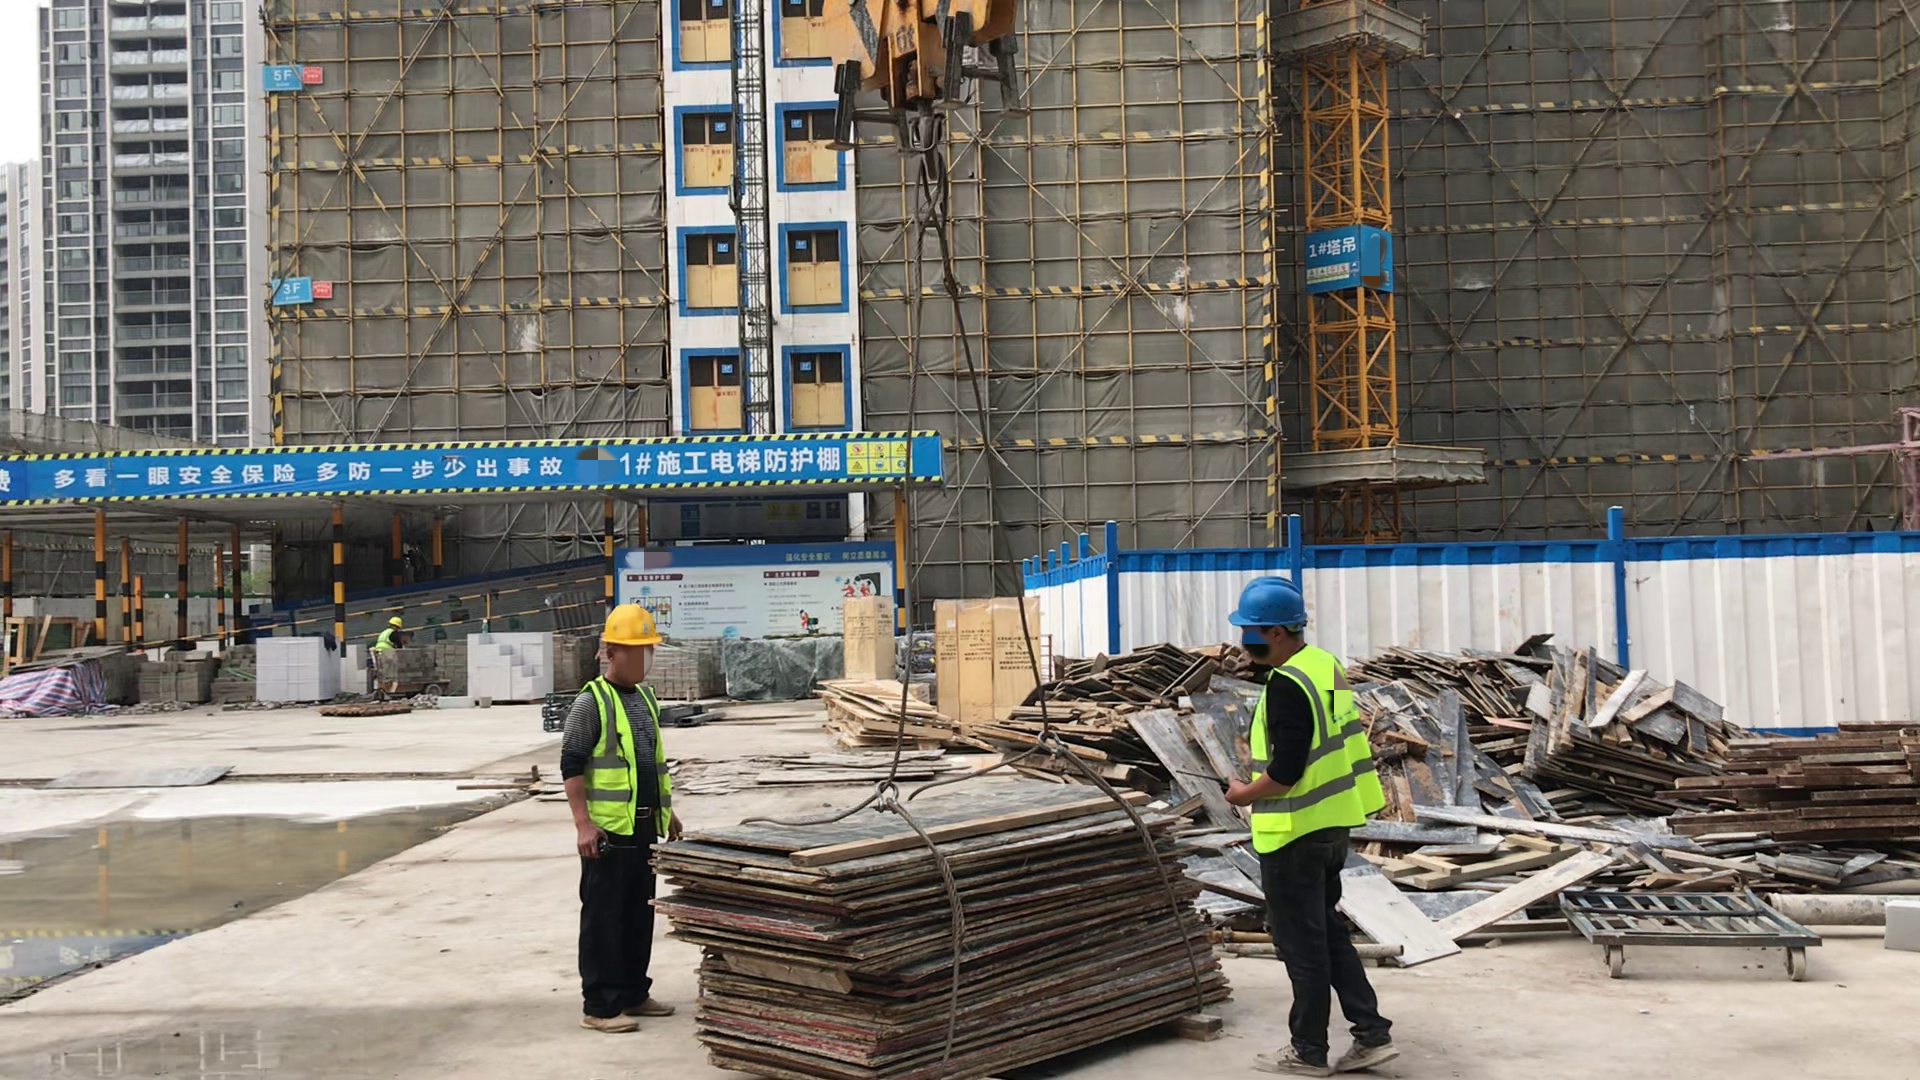board: (650, 775, 1235, 1080)
brick: (253, 635, 368, 703), (467, 634, 551, 703)
helmet: (1230, 576, 1306, 629), (598, 601, 663, 649), (387, 615, 401, 626)
hook: (822, 1, 1062, 180)
person: (1226, 574, 1399, 1079), (559, 601, 682, 1035), (371, 615, 414, 648)
slogan: (5, 449, 567, 494), (843, 438, 917, 477), (1304, 261, 1360, 282)
vest: (1250, 647, 1383, 859), (579, 675, 674, 841), (376, 628, 393, 648)
